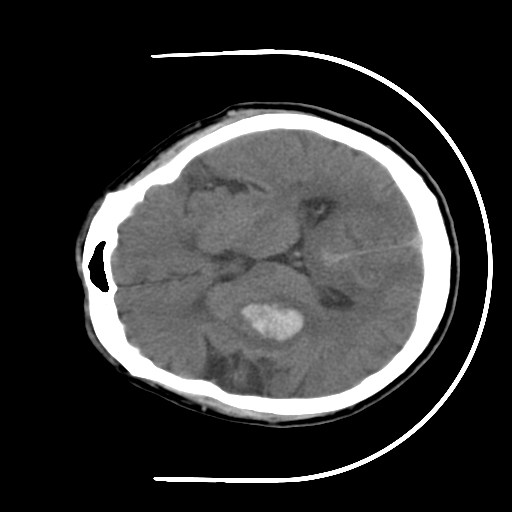a: (218, 285, 330, 360)
